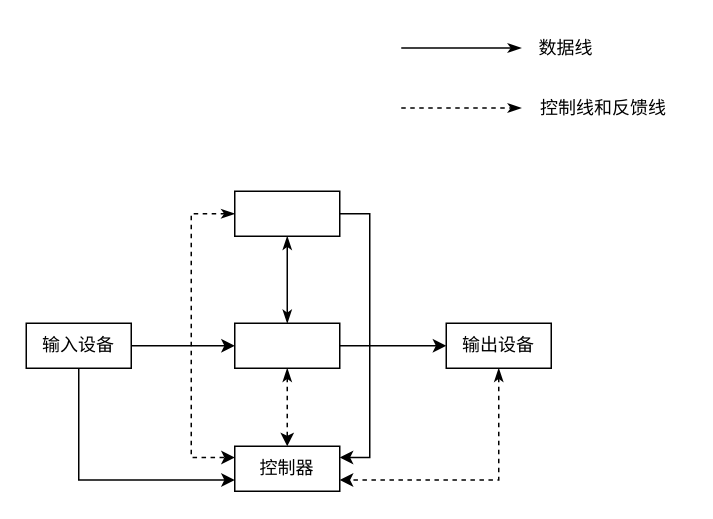
Some shapes in this 713 by 519 pixel diagram are drawn without their labels. The centre of each missing label's shape, as x and y in pixels:
"存储器" goes at (x=286, y=213).
"运算器" goes at (x=286, y=345).
